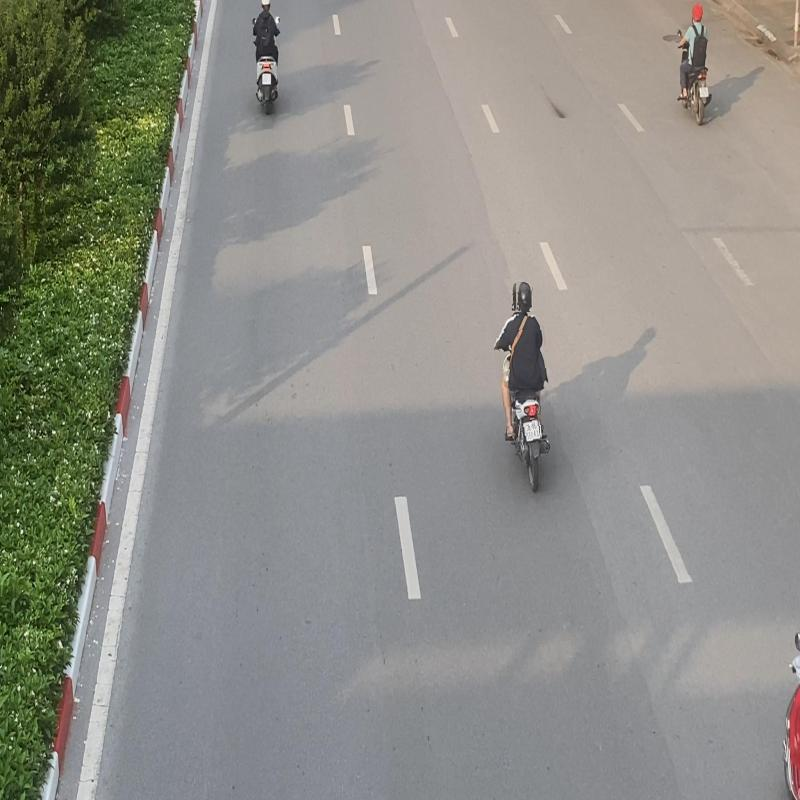helmet: (516, 282, 533, 312)
licenseplate: (524, 420, 540, 442)
motorcyclist: (494, 278, 556, 497)
